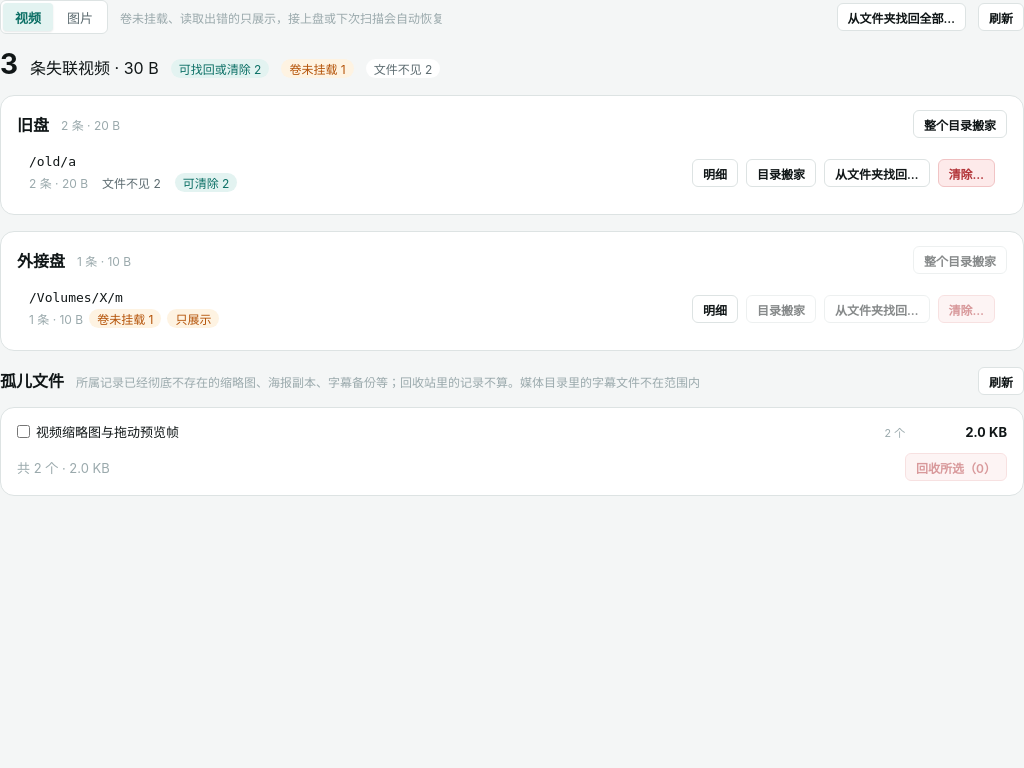
Test case: 失联数据面板（D-LD-*） › 取消执行时正在处理的那条按「已取消，未处理」列出，不算失败
Step 1. Click the button with test id "lost-dir-purge" in the row of "可清除 2" → (966, 173), box [938,159,995,187]
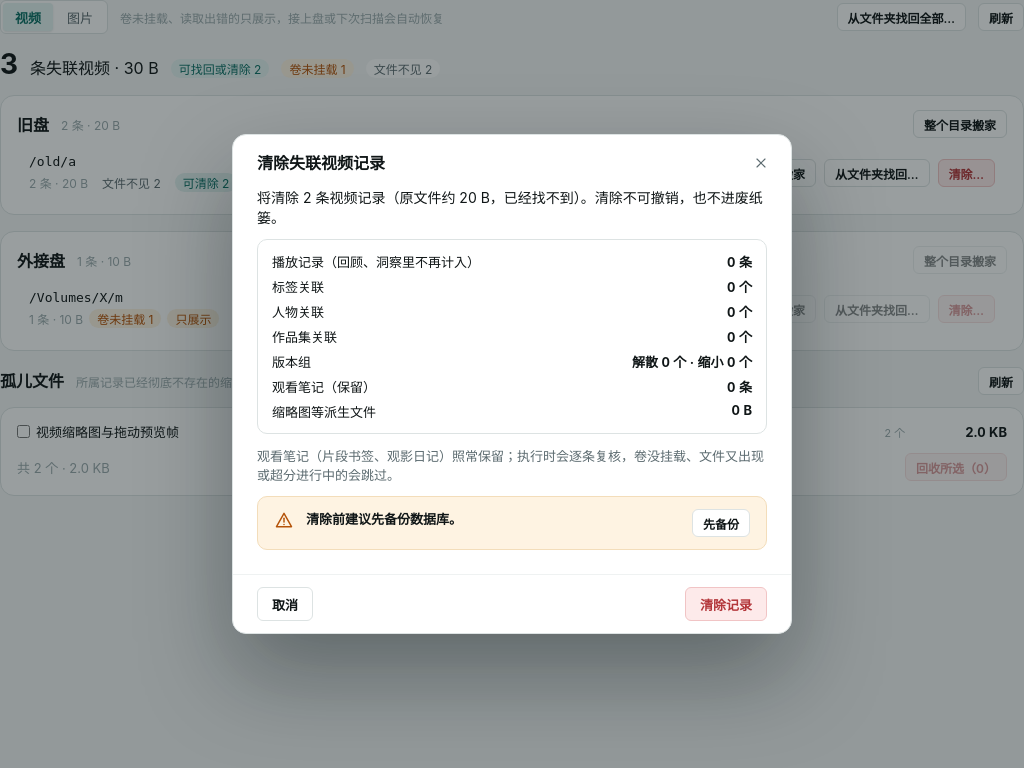
Step 2. Click the button with test id "lost-purge-apply" → (726, 604), box [685,587,767,621]
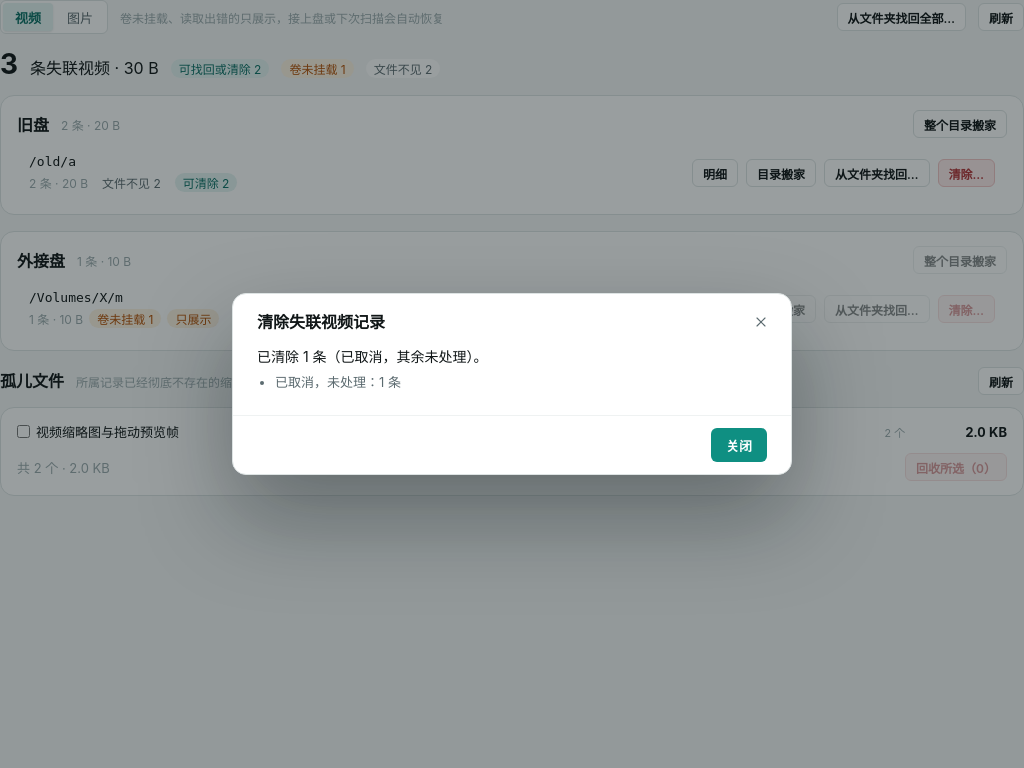
Now the element with test id "lost-purge-result" shows "已取消，其余未处理", box [327,348,474,365]
Now the element with test id "lost-purge-result" shows "已取消，未处理：1 条", box [275,374,401,390]
